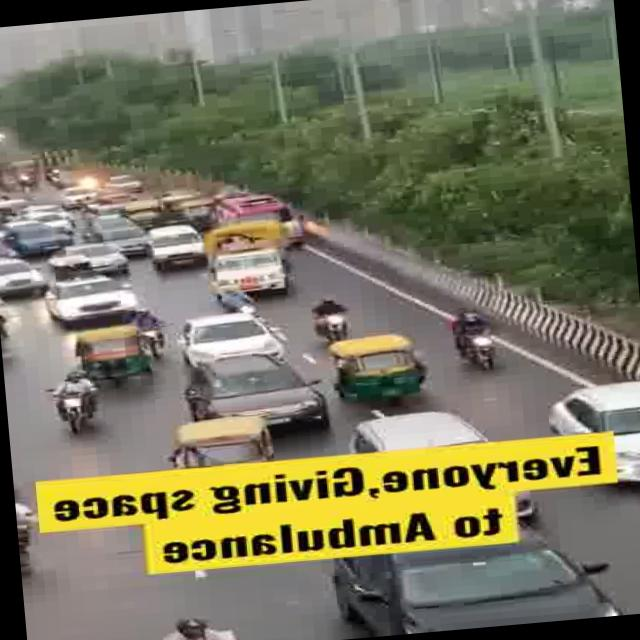ambulance: (210, 186, 306, 232)
